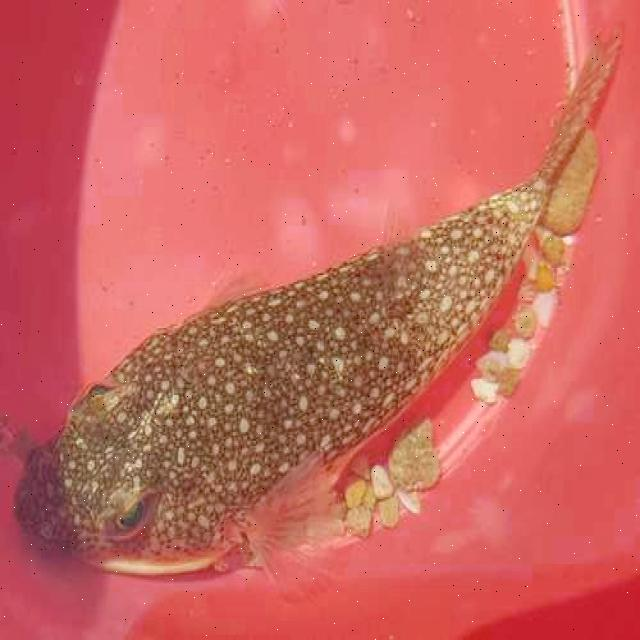Balik: (16, 38, 620, 573)
